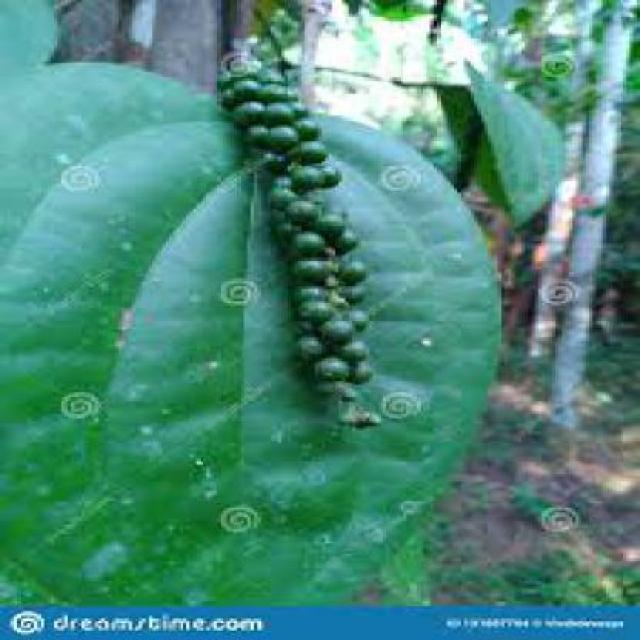UNRIPE: (192, 42, 420, 429)
